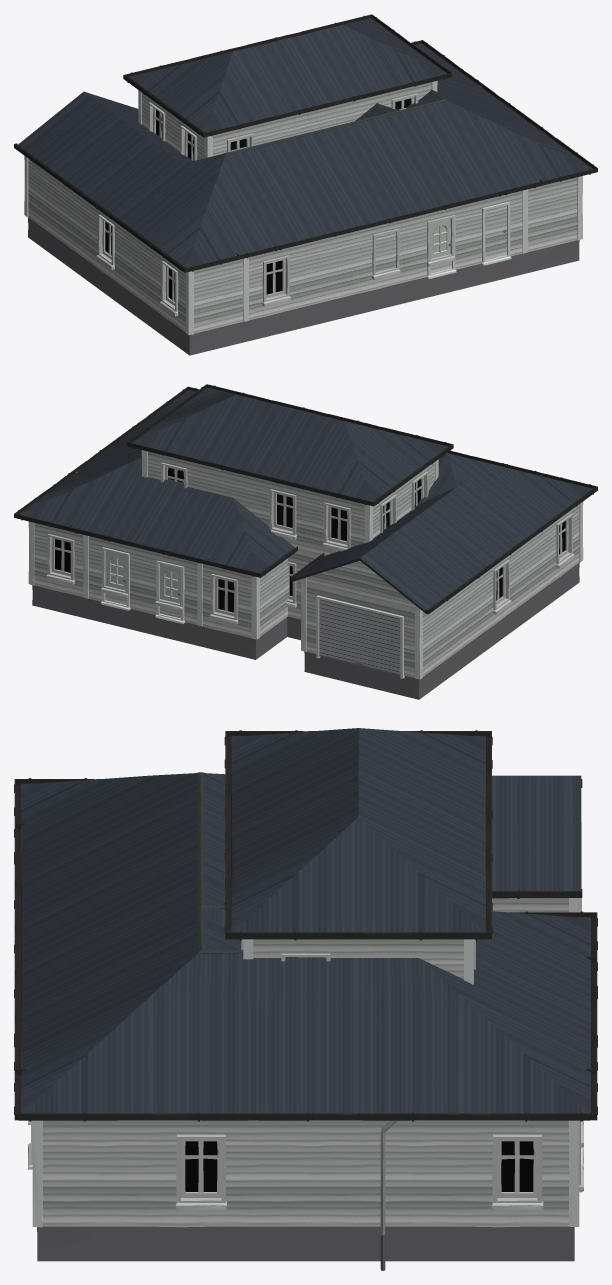
Rendered from suburban-houses.glb.
The picture shows the model from 3 angles, top to bottom: view 1: azimuth 30°, elevation 25°; view 2: azimuth 150°, elevation 25°; view 3: azimuth 270°, elevation 25°; orthographic projection. The views are drawn at different scales.
Visible parts, largest first — view 1: suburban-house_3, suburban-house_2, suburban-house_1; view 2: suburban-house_3, suburban-house_2, suburban-house_1; view 3: suburban-house_3, suburban-house_2, suburban-house_1.
Boxes of the visible parts, x1=… form: suburban-house_3: x1=14, y1=40, x2=597, y2=355; suburban-house_2: x1=123, y1=14, x2=452, y2=160; suburban-house_1: x1=236, y1=103, x2=543, y2=341; suburban-house_3: x1=14, y1=386, x2=597, y2=699; suburban-house_2: x1=127, y1=384, x2=453, y2=640; suburban-house_1: x1=68, y1=450, x2=542, y2=659; suburban-house_3: x1=14, y1=772, x2=597, y2=1270; suburban-house_2: x1=224, y1=728, x2=492, y2=984; suburban-house_1: x1=14, y1=817, x2=597, y2=1147.
Bounding box in the file's own units: 18.87 × 8.77 × 13.87.
1 material, 1 textured.
